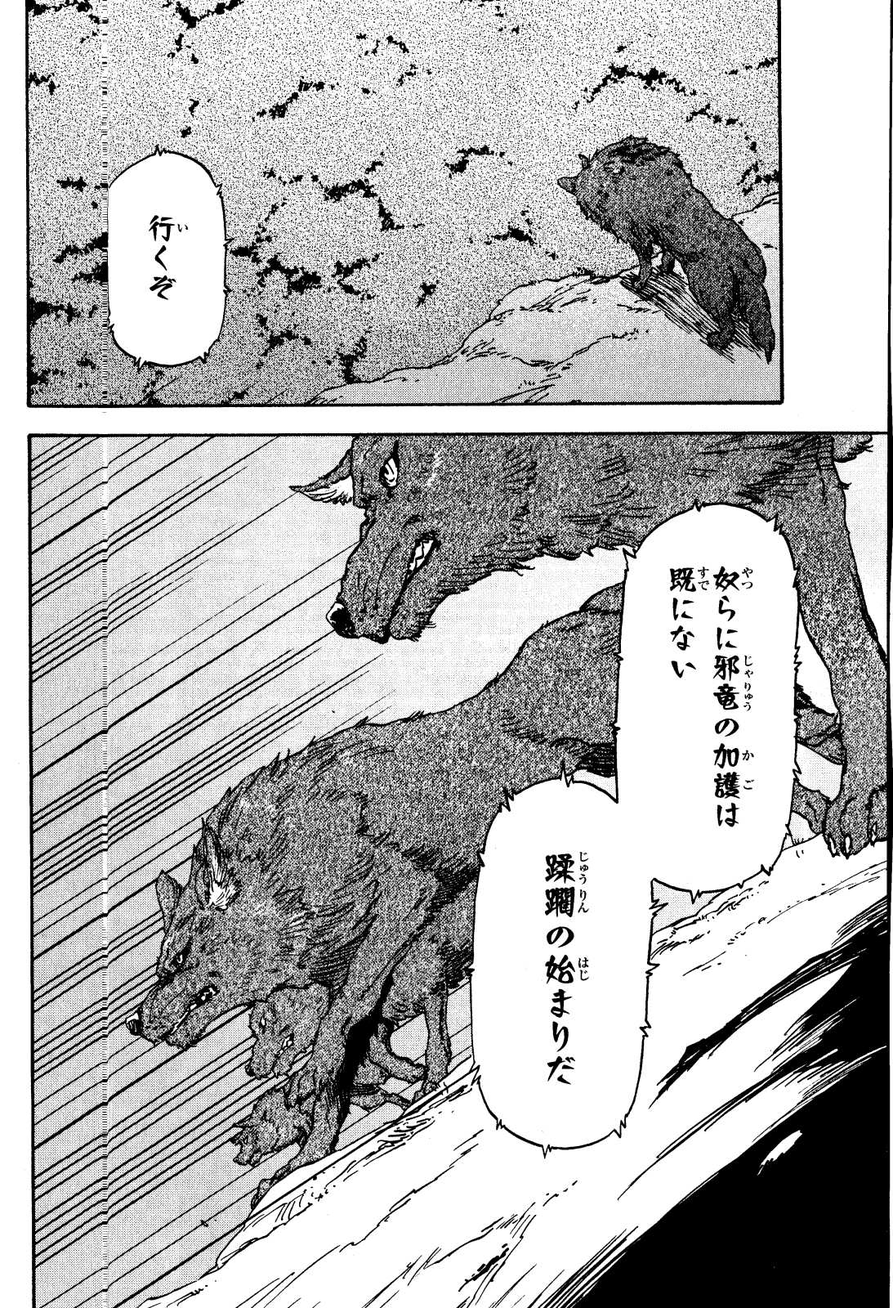bubbles: (460, 495, 807, 1167), (99, 144, 231, 375)
